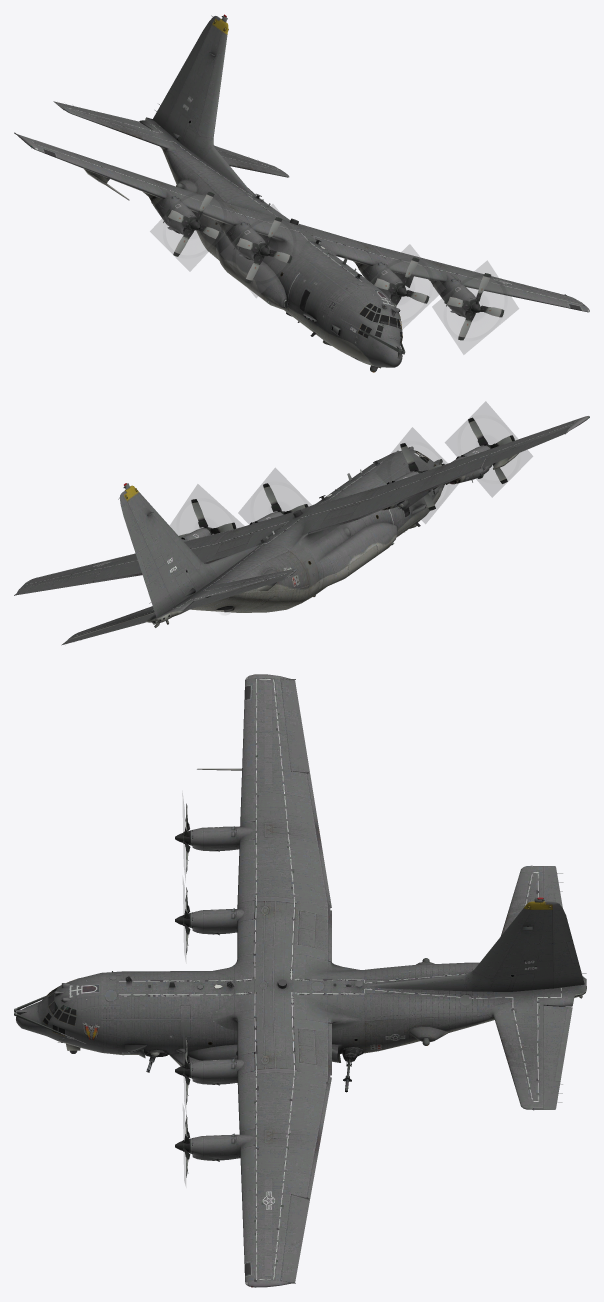
3 views of the same model, one above another, from view 1: azimuth 30°, elevation 25°; view 2: azimuth 150°, elevation 25°; view 3: azimuth 270°, elevation 25° (orthographic). The views are drawn at different scales.
Parts seen in each view (by area): view 1: Hull, prop_roll, Rudder, prop_1, prop_3, prop_4, prop_2; view 2: Hull, prop_roll, Rudder, aileron_l, aileron_r, elevator_r, prop_4, elevator_l, prop_1, prop_3, prop_2, gear_r_door; view 3: Hull, elevator_l, Rudder, aileron_r, aileron_l.
Boxes of the visible parts, <box> form: Hull: <box>14,14,589,372</box>; prop_roll: <box>150,178,518,354</box>; Rudder: <box>152,15,220,128</box>; prop_1: <box>444,273,504,340</box>; prop_3: <box>234,217,292,283</box>; prop_4: <box>165,191,221,256</box>; prop_2: <box>372,257,429,306</box>; Hull: <box>14,416,589,639</box>; prop_roll: <box>170,401,532,535</box>; Rudder: <box>118,490,174,617</box>; aileron_l: <box>16,572,99,595</box>; aileron_r: <box>481,426,570,468</box>; elevator_r: <box>183,571,294,611</box>; prop_4: <box>468,417,514,483</box>; elevator_l: <box>61,613,154,645</box>; prop_1: <box>179,499,236,537</box>; prop_3: <box>391,443,444,510</box>; prop_2: <box>253,483,308,522</box>; gear_r_door: <box>346,545,377,577</box>; Hull: <box>14,674,586,1287</box>; elevator_l: <box>533,1005,572,1110</box>; Rudder: <box>545,901,586,988</box>; aileron_r: <box>280,678,309,772</box>; aileron_l: <box>280,1194,309,1282</box>.
Size of the model in its own units: 35.88 by 18.57 by 29.95.
Materials: 3 (2 with a texture image).
